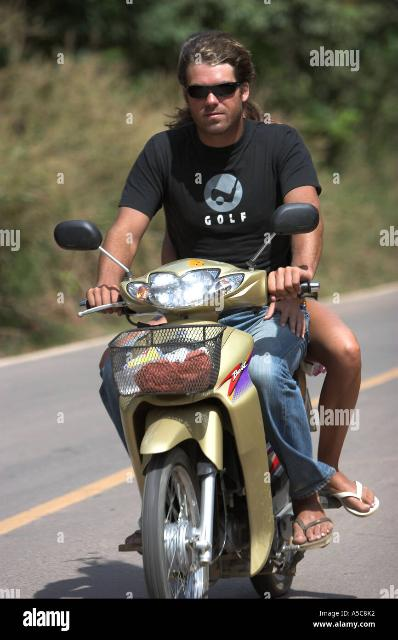motor: (50, 194, 335, 598)
non-helm: (183, 33, 256, 135)
